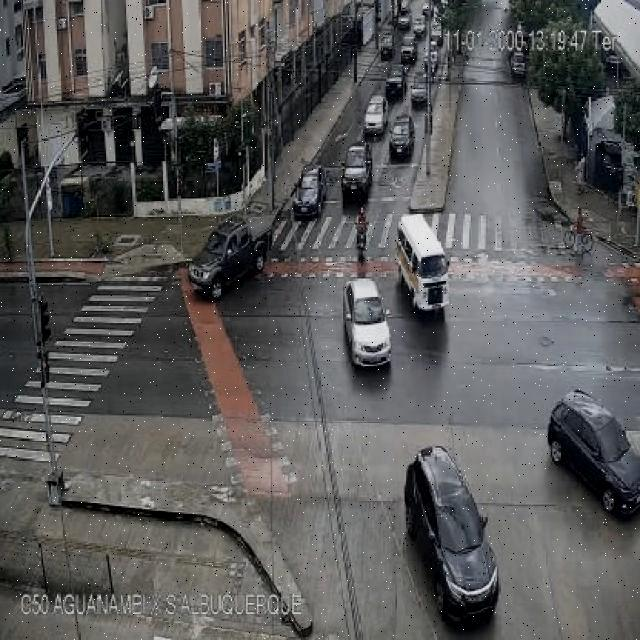Car: (403, 446, 498, 626), (547, 392, 639, 517), (343, 279, 391, 367), (292, 164, 326, 218), (340, 145, 372, 202), (389, 115, 414, 156), (363, 97, 388, 135), (385, 68, 406, 98), (509, 52, 526, 78), (399, 39, 416, 64), (378, 32, 394, 58), (410, 82, 428, 104), (426, 48, 438, 72), (430, 21, 442, 43), (412, 16, 426, 34), (397, 14, 411, 31)
Truck: (187, 213, 274, 299)
Van: (395, 214, 451, 312)
